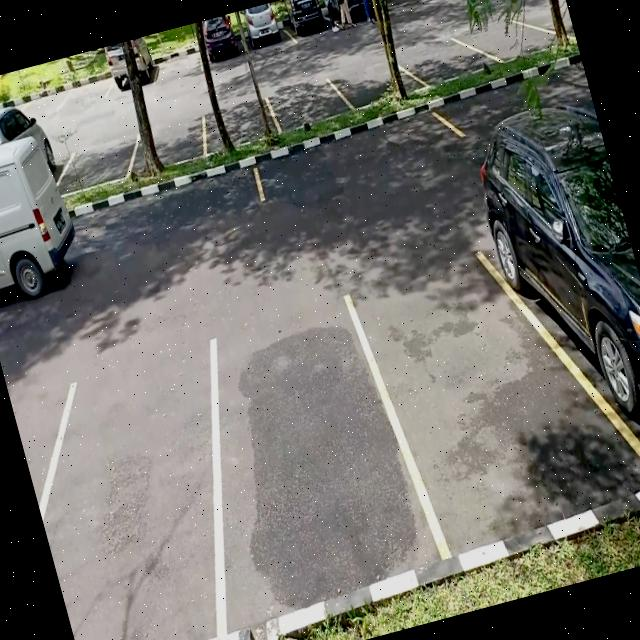empty: (182, 288, 444, 624), (10, 348, 275, 640), (352, 242, 593, 560), (246, 97, 463, 201), (51, 126, 150, 196), (126, 108, 215, 176), (195, 92, 283, 156), (266, 74, 354, 136), (400, 31, 482, 92), (336, 54, 412, 113), (146, 38, 204, 84)
occupied: (465, 115, 640, 502), (96, 35, 160, 97), (189, 12, 247, 70), (237, 0, 296, 57), (280, 0, 341, 44)
